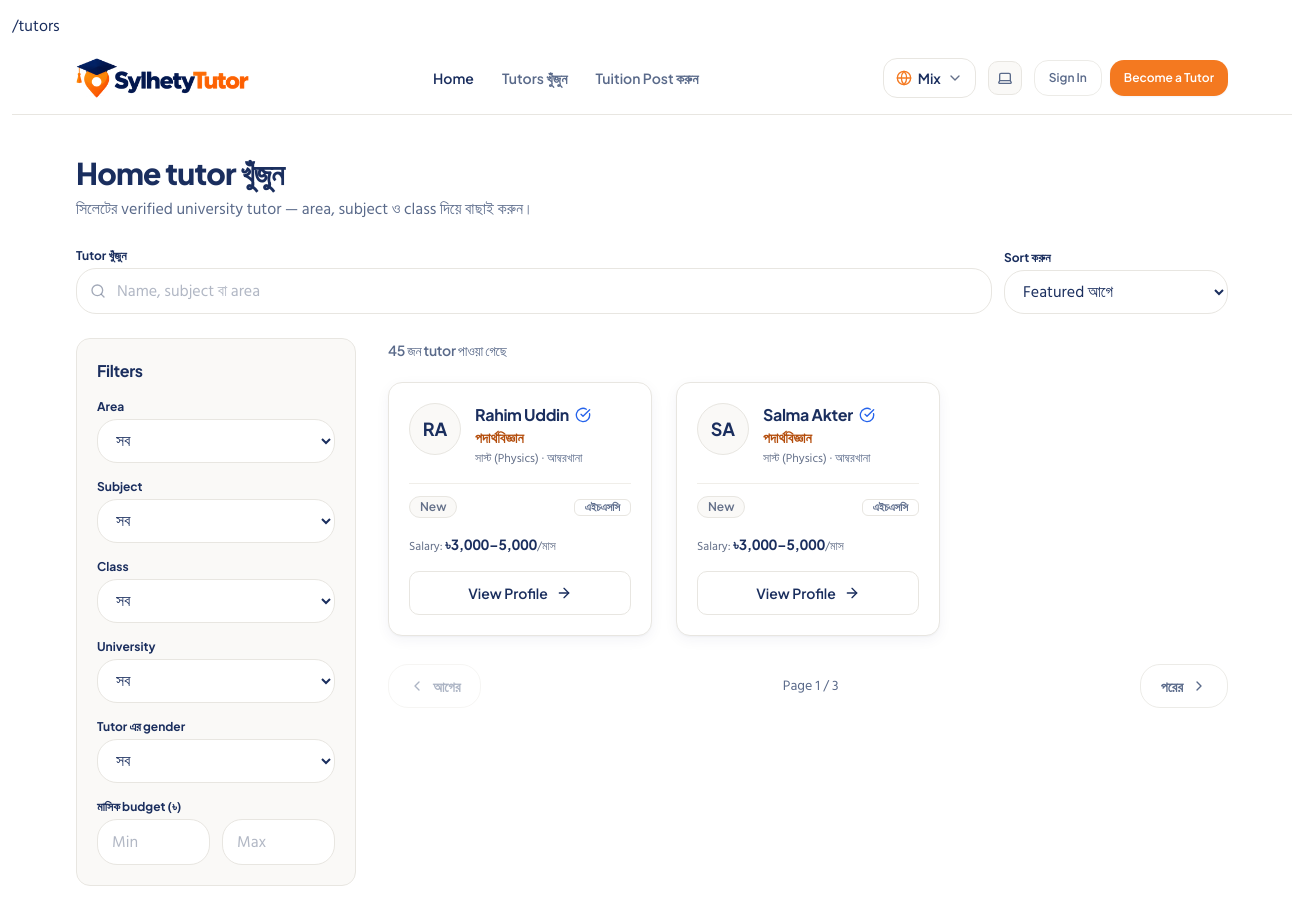
Test: Search page › pages through results and disables Previous on the first page
Check: the button "আগের" is disabled, box 388,664 -> 482,708
Click the button "পরের" at [1184, 686], box 1140,664 -> 1228,708
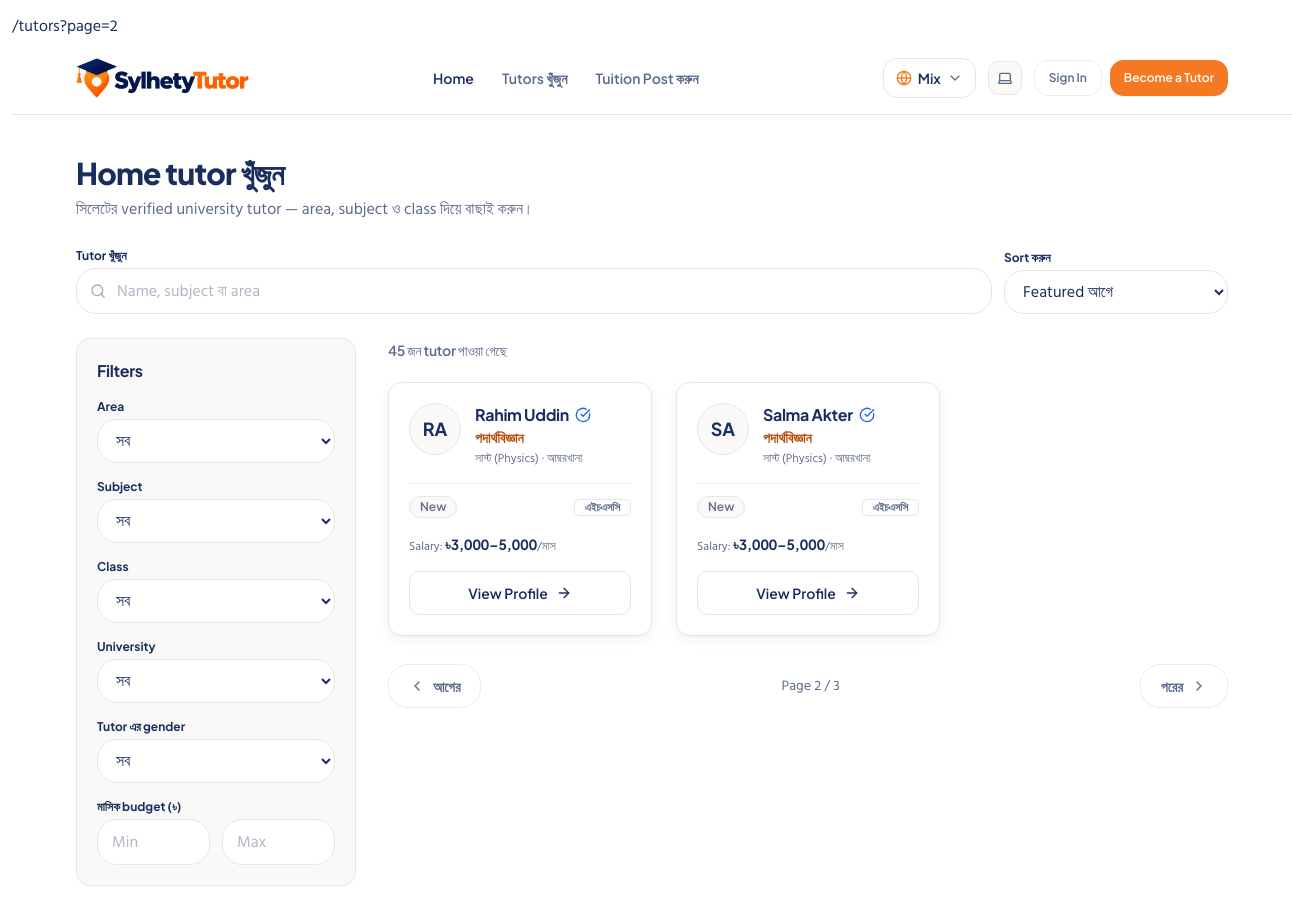
Check: the text with test id "url" reads "/tutors?page=2", box 12,13 -> 118,39
